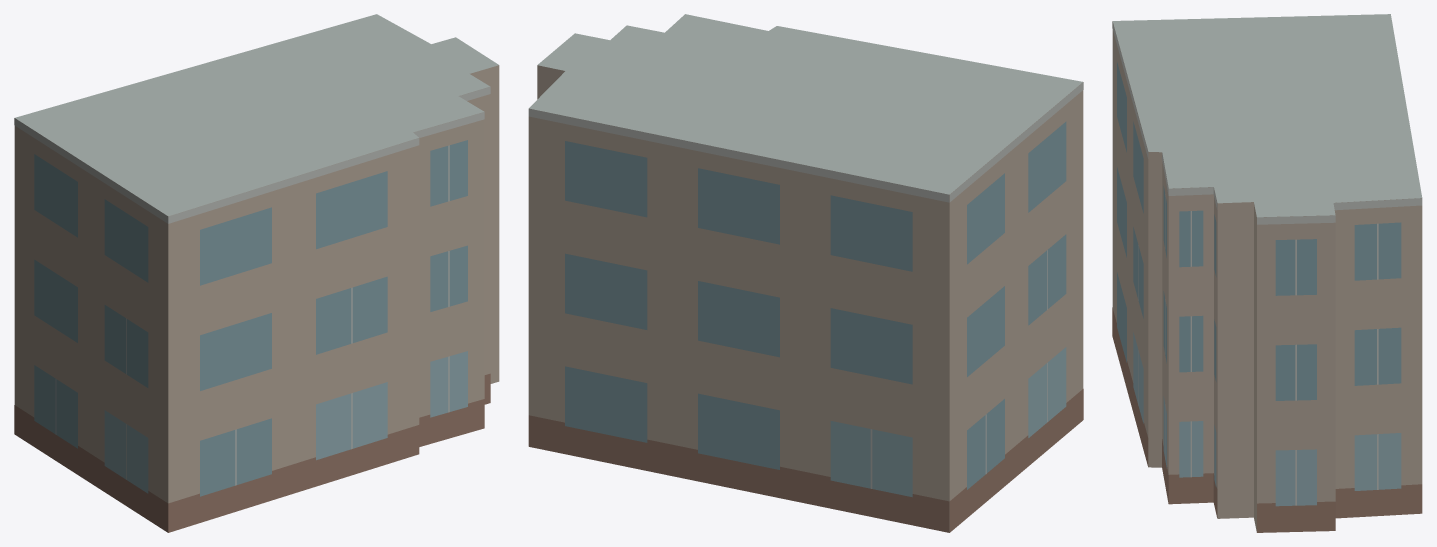
The model's file is survey-upis-33010896.glb.
3 renders of one model, left to right at view 1: azimuth 30°, elevation 25°; view 2: azimuth 150°, elevation 25°; view 3: azimuth 270°, elevation 25°, orthographic. The views are drawn at different scales.
Parts seen in each view (by area): view 1: survey-upis-33010896.tmp; view 2: survey-upis-33010896.tmp; view 3: survey-upis-33010896.tmp.
Part boxes in pixels (bbox=[...]): survey-upis-33010896.tmp: bbox=[14, 14, 499, 532]; survey-upis-33010896.tmp: bbox=[528, 14, 1083, 532]; survey-upis-33010896.tmp: bbox=[1112, 14, 1422, 532].
Size of the model in its own units: 14.24 by 10.3 by 9.17.
